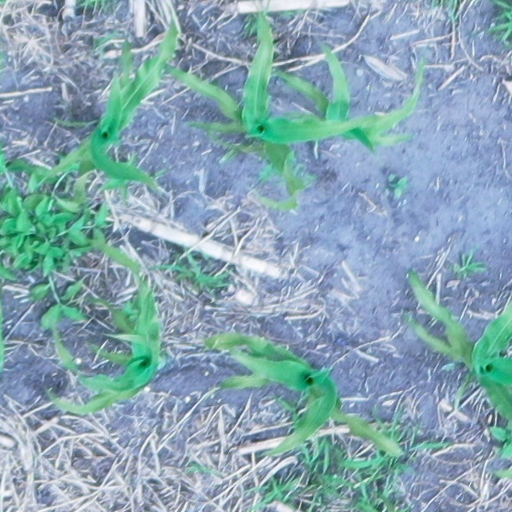planta: (166, 11, 382, 194), (33, 9, 178, 211), (205, 334, 401, 456), (268, 41, 424, 156), (47, 278, 163, 418)
